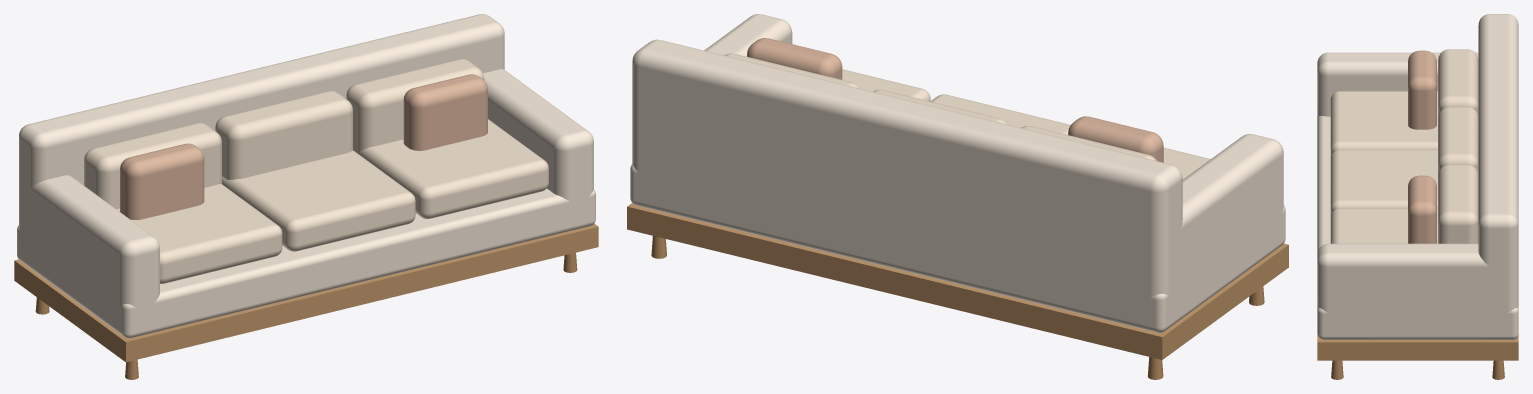
The model's file is sofa.glb.
3 views of the same model, side by side, from view 1: azimuth 30°, elevation 25°; view 2: azimuth 150°, elevation 25°; view 3: azimuth 270°, elevation 25° (orthographic). The views are drawn at different scales.
Visible parts, largest first — view 1: material-2-upholstery, material-3-cushion, material-1-frame, material-4-accent, material-0-leg; view 2: material-2-upholstery, material-1-frame, material-3-cushion, material-4-accent, material-0-leg; view 3: material-2-upholstery, material-3-cushion, material-1-frame, material-4-accent, material-0-leg.
Boxes of the visible parts, x1,y1,x2,y2 form: material-2-upholstery: [17, 14, 595, 338]; material-3-cushion: [84, 59, 548, 284]; material-1-frame: [14, 223, 598, 362]; material-4-accent: [120, 74, 487, 219]; material-0-leg: [35, 252, 577, 379]; material-2-upholstery: [630, 14, 1285, 332]; material-1-frame: [627, 203, 1288, 359]; material-3-cushion: [724, 53, 1210, 179]; material-4-accent: [747, 38, 1163, 162]; material-0-leg: [651, 236, 1264, 379]; material-2-upholstery: [1317, 14, 1518, 339]; material-3-cushion: [1330, 49, 1478, 243]; material-1-frame: [1317, 335, 1518, 360]; material-4-accent: [1408, 50, 1436, 243]; material-0-leg: [1331, 360, 1504, 379].
Size of the model in its own units: 2.2 by 0.82 by 0.9.
